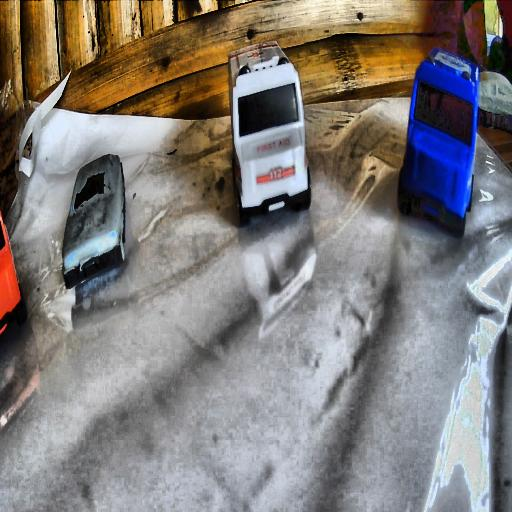ambulance: (228, 38, 312, 226)
fire_truck: (0, 193, 28, 344)
normal_car: (60, 152, 126, 290)
police car: (395, 48, 478, 238)
